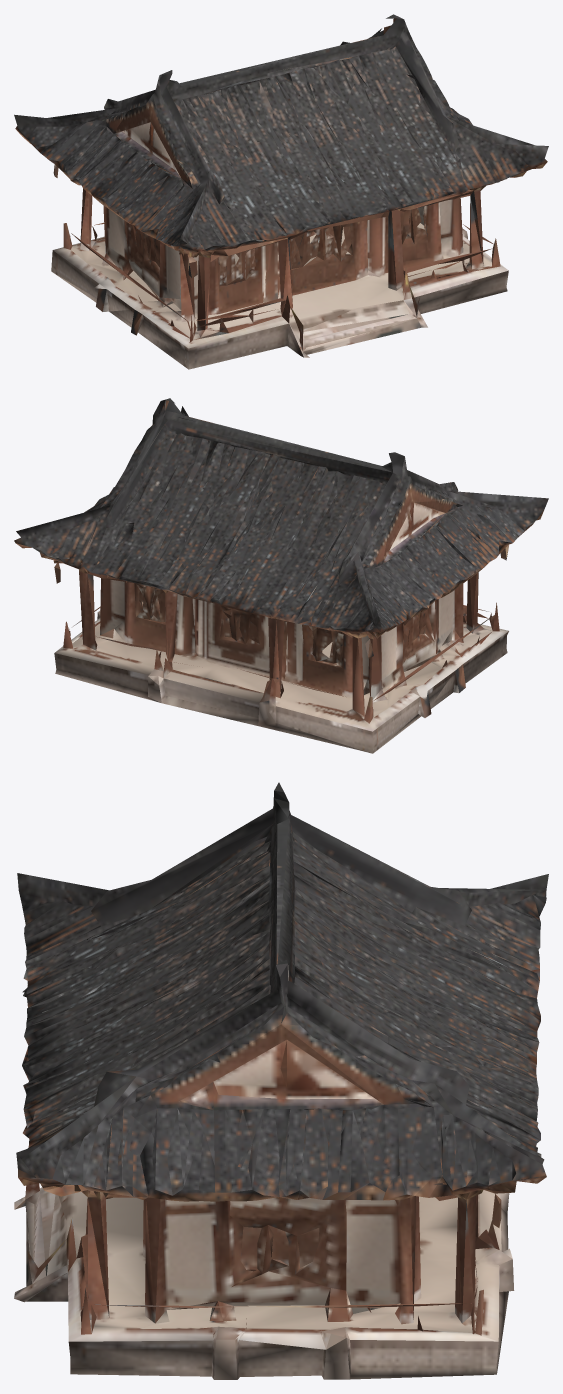
Rendered from 19_Xieshan_Public_Hall_LOD2.fbx.
The picture shows the model from 3 angles, top to bottom: view 1: azimuth 30°, elevation 25°; view 2: azimuth 150°, elevation 25°; view 3: azimuth 270°, elevation 25°; orthographic projection. The views are drawn at different scales.
Parts seen in each view (by area): view 1: 19_Xieshan_Public_Hall_L2; view 2: 19_Xieshan_Public_Hall_L2; view 3: 19_Xieshan_Public_Hall_L2.
Boxes of the visible parts, x1,y1,x2,y2 form: 19_Xieshan_Public_Hall_L2: (14, 14, 548, 369); 19_Xieshan_Public_Hall_L2: (14, 398, 548, 753); 19_Xieshan_Public_Hall_L2: (14, 782, 548, 1379).
Size of the model in its own units: 14.56 by 9 by 11.52.
